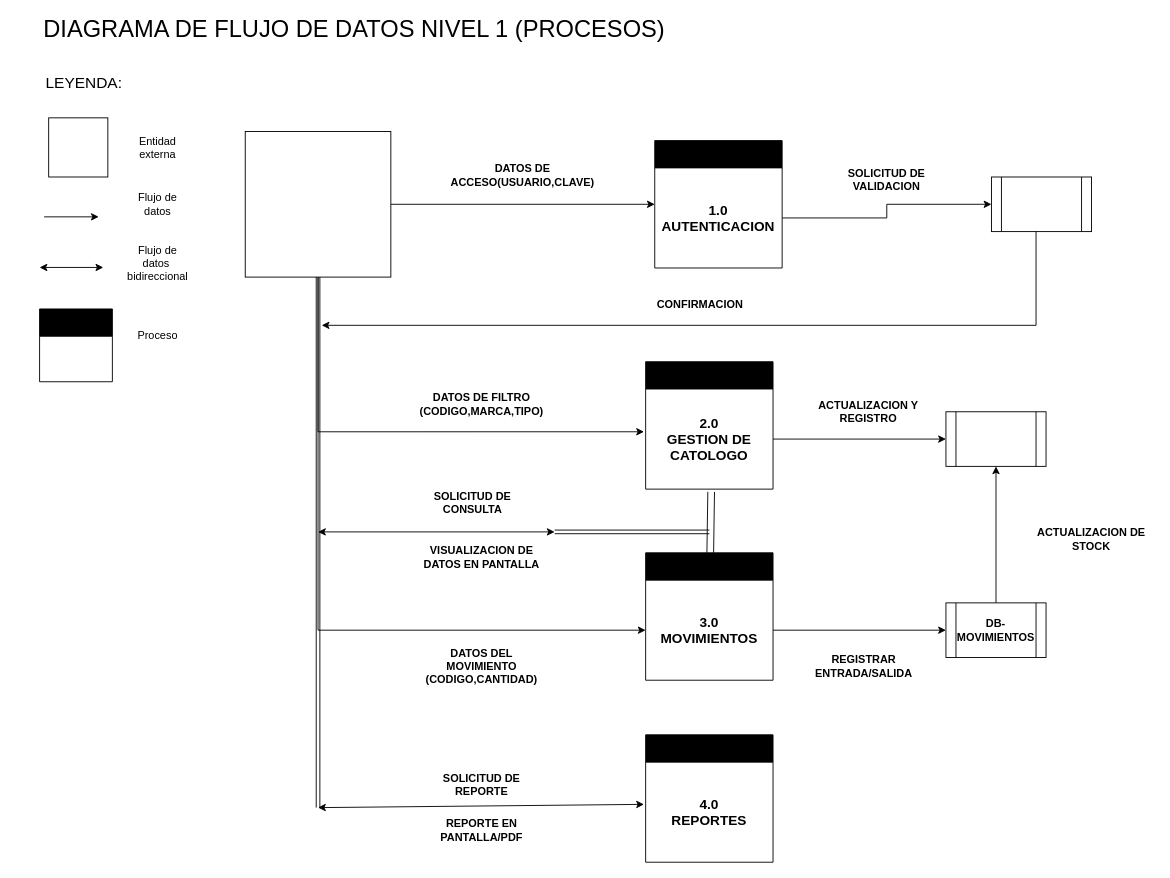
Image size: 1170x878. Some labels were removed from this diagram. Here are the shapes that lost their labels. From the top down, the box of each, then its label:
(244, 131, 391, 277): USUARIO ADMIN/VENDEDOR
(991, 176, 1092, 232): DB-USUARIO
(945, 411, 1046, 466): DB-PRODUCTO
